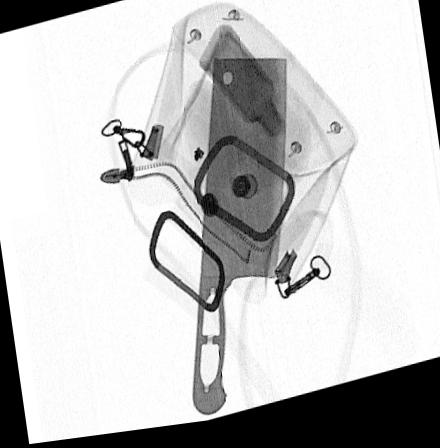Knife: (190, 61, 289, 420)
